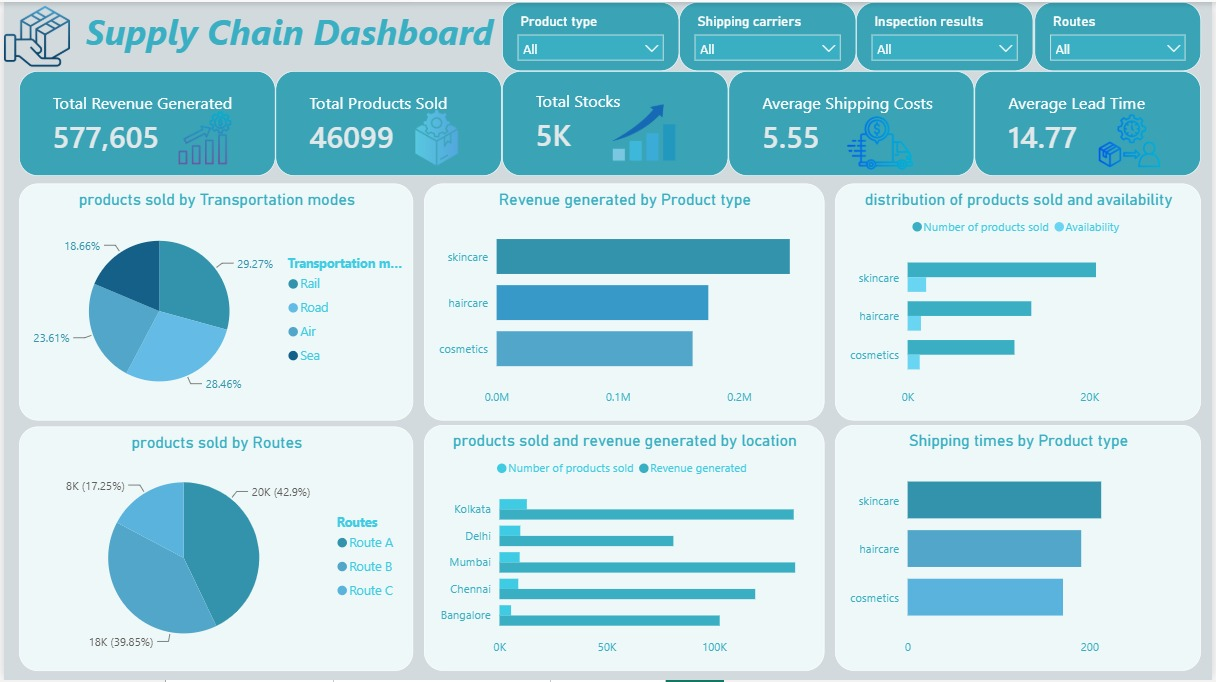

This screenshot's page, from the dashboard's own definition file:
{"tool":"powerbi","page":{"name":"Supply Chian","canvas":[1280,720],"ordinal":0},"visuals":[{"type":"textbox","box":[0,0,1280.4,62],"z":0},{"type":"slicer","fields":{"Values":["supply_chain_data.Product type"]},"box":[528.1,0,187.7,73.2],"z":1000},{"type":"slicer","fields":{"Values":["supply_chain_data.Routes"]},"box":[1092.7,0,176.6,73.2],"z":2000},{"type":"slicer","fields":{"Values":["supply_chain_data.Shipping carriers"]},"box":[715.8,0,187.7,73.2],"z":3000},{"type":"slicer","fields":{"Values":["supply_chain_data.Inspection results"]},"box":[903.5,0,187.7,73.2],"z":4000},{"type":"clusteredBarChart","title":" distribution of products sold and availability","fields":{"Category":["supply_chain_data.Product type"],"Y":["Sum(supply_chain_data.Number of products sold)","Sum(supply_chain_data.Availability)"]},"box":[881.2,192.5,388.1,251.3],"z":5000},{"type":"clusteredBarChart","title":"products sold and revenue generated by location","fields":{"Category":["supply_chain_data.Location"],"Y":["Sum(supply_chain_data.Number of products sold)","Sum(supply_chain_data.Revenue generated)"]},"box":[445.4,448.6,424.7,260.9],"z":6000},{"type":"pieChart","title":" products sold by Transportation modes","fields":{"Category":["supply_chain_data.Transportation modes"],"Y":["Sum(supply_chain_data.Number of products sold)"]},"box":[15.9,192.5,418.3,251.3],"z":7000},{"type":"barChart","title":"Revenue generated by Product type","fields":{"Y":["Sum(supply_chain_data.Revenue generated)"],"Category":["supply_chain_data.Product type"]},"box":[445.4,192.5,424.7,251.3],"z":8000},{"type":"clusteredBarChart","title":"Shipping times by Product type","fields":{"Y":["Sum(supply_chain_data.Shipping times)"],"Category":["supply_chain_data.Product type"]},"box":[881.2,448.6,388.1,260.9],"z":9000},{"type":"pieChart","title":"products sold by Routes","fields":{"Series":["supply_chain_data.Routes"],"Y":["Sum(supply_chain_data.Number of products sold)"]},"box":[15.9,450.1,418.3,259.3],"z":10000},{"type":"cardVisual","fields":{"Data":["Sum(supply_chain_data.Revenue generated)"]},"box":[15.9,73.2,272,111.3],"z":11000},{"type":"cardVisual","fields":{"Data":["Sum(supply_chain_data.Number of products sold)"]},"box":[287.9,73.2,240.2,111.3],"z":12000},{"type":"cardVisual","fields":{"Data":["Sum(supply_chain_data.Stock levels)"]},"box":[528.1,73.2,240.2,111.3],"z":13000},{"type":"cardVisual","fields":{"Data":["Avg(supply_chain_data.Shipping costs)"]},"box":[768.3,73.2,260.9,111.3],"z":14000},{"type":"cardVisual","fields":{"Data":["Avg(supply_chain_data.Manufacturing lead time)"]},"box":[1029.1,73.2,240.2,111.3],"z":15000},{"type":"image","box":[0,0,70,73.2],"z":16000},{"type":"image","box":[171.8,116.1,82.7,55.7],"z":17000},{"type":"image","box":[408.8,114.5,100.2,58.9],"z":18000},{"type":"image","box":[621.9,103.4,112.9,70],"z":19000},{"type":"image","box":[870.1,114.5,117.7,70],"z":20000},{"type":"image","box":[1138.9,114.5,109.8,65.2],"z":21000}]}

Visuals, with their boxes in screenshot pixels (x1, y1, x2, y2), scaled from the page's 1280x720 canvas onto the 1216x682 screenshot:
textbox: BBox(0, 0, 1215, 59)
slicer - supply_chain_data.Product type: BBox(502, 0, 680, 69)
slicer - supply_chain_data.Routes: BBox(1038, 0, 1206, 69)
slicer - supply_chain_data.Shipping carriers: BBox(680, 0, 858, 69)
slicer - supply_chain_data.Inspection results: BBox(858, 0, 1037, 69)
" distribution of products sold and availability" clusteredBarChart: BBox(837, 182, 1206, 420)
"products sold and revenue generated by location" clusteredBarChart: BBox(423, 425, 827, 672)
" products sold by Transportation modes" pieChart: BBox(15, 182, 412, 420)
"Revenue generated by Product type" barChart: BBox(423, 182, 827, 420)
"Shipping times by Product type" clusteredBarChart: BBox(837, 425, 1206, 672)
"products sold by Routes" pieChart: BBox(15, 426, 412, 672)
cardVisual - Sum(supply_chain_data.Revenue generated): BBox(15, 69, 274, 175)
cardVisual - Sum(supply_chain_data.Number of products sold): BBox(274, 69, 502, 175)
cardVisual - Sum(supply_chain_data.Stock levels): BBox(502, 69, 730, 175)
cardVisual - Avg(supply_chain_data.Shipping costs): BBox(730, 69, 978, 175)
cardVisual - Avg(supply_chain_data.Manufacturing lead time): BBox(978, 69, 1206, 175)
image: BBox(0, 0, 66, 69)
image: BBox(163, 110, 242, 163)
image: BBox(388, 108, 484, 164)
image: BBox(591, 98, 698, 164)
image: BBox(827, 108, 938, 175)
image: BBox(1082, 108, 1186, 170)
